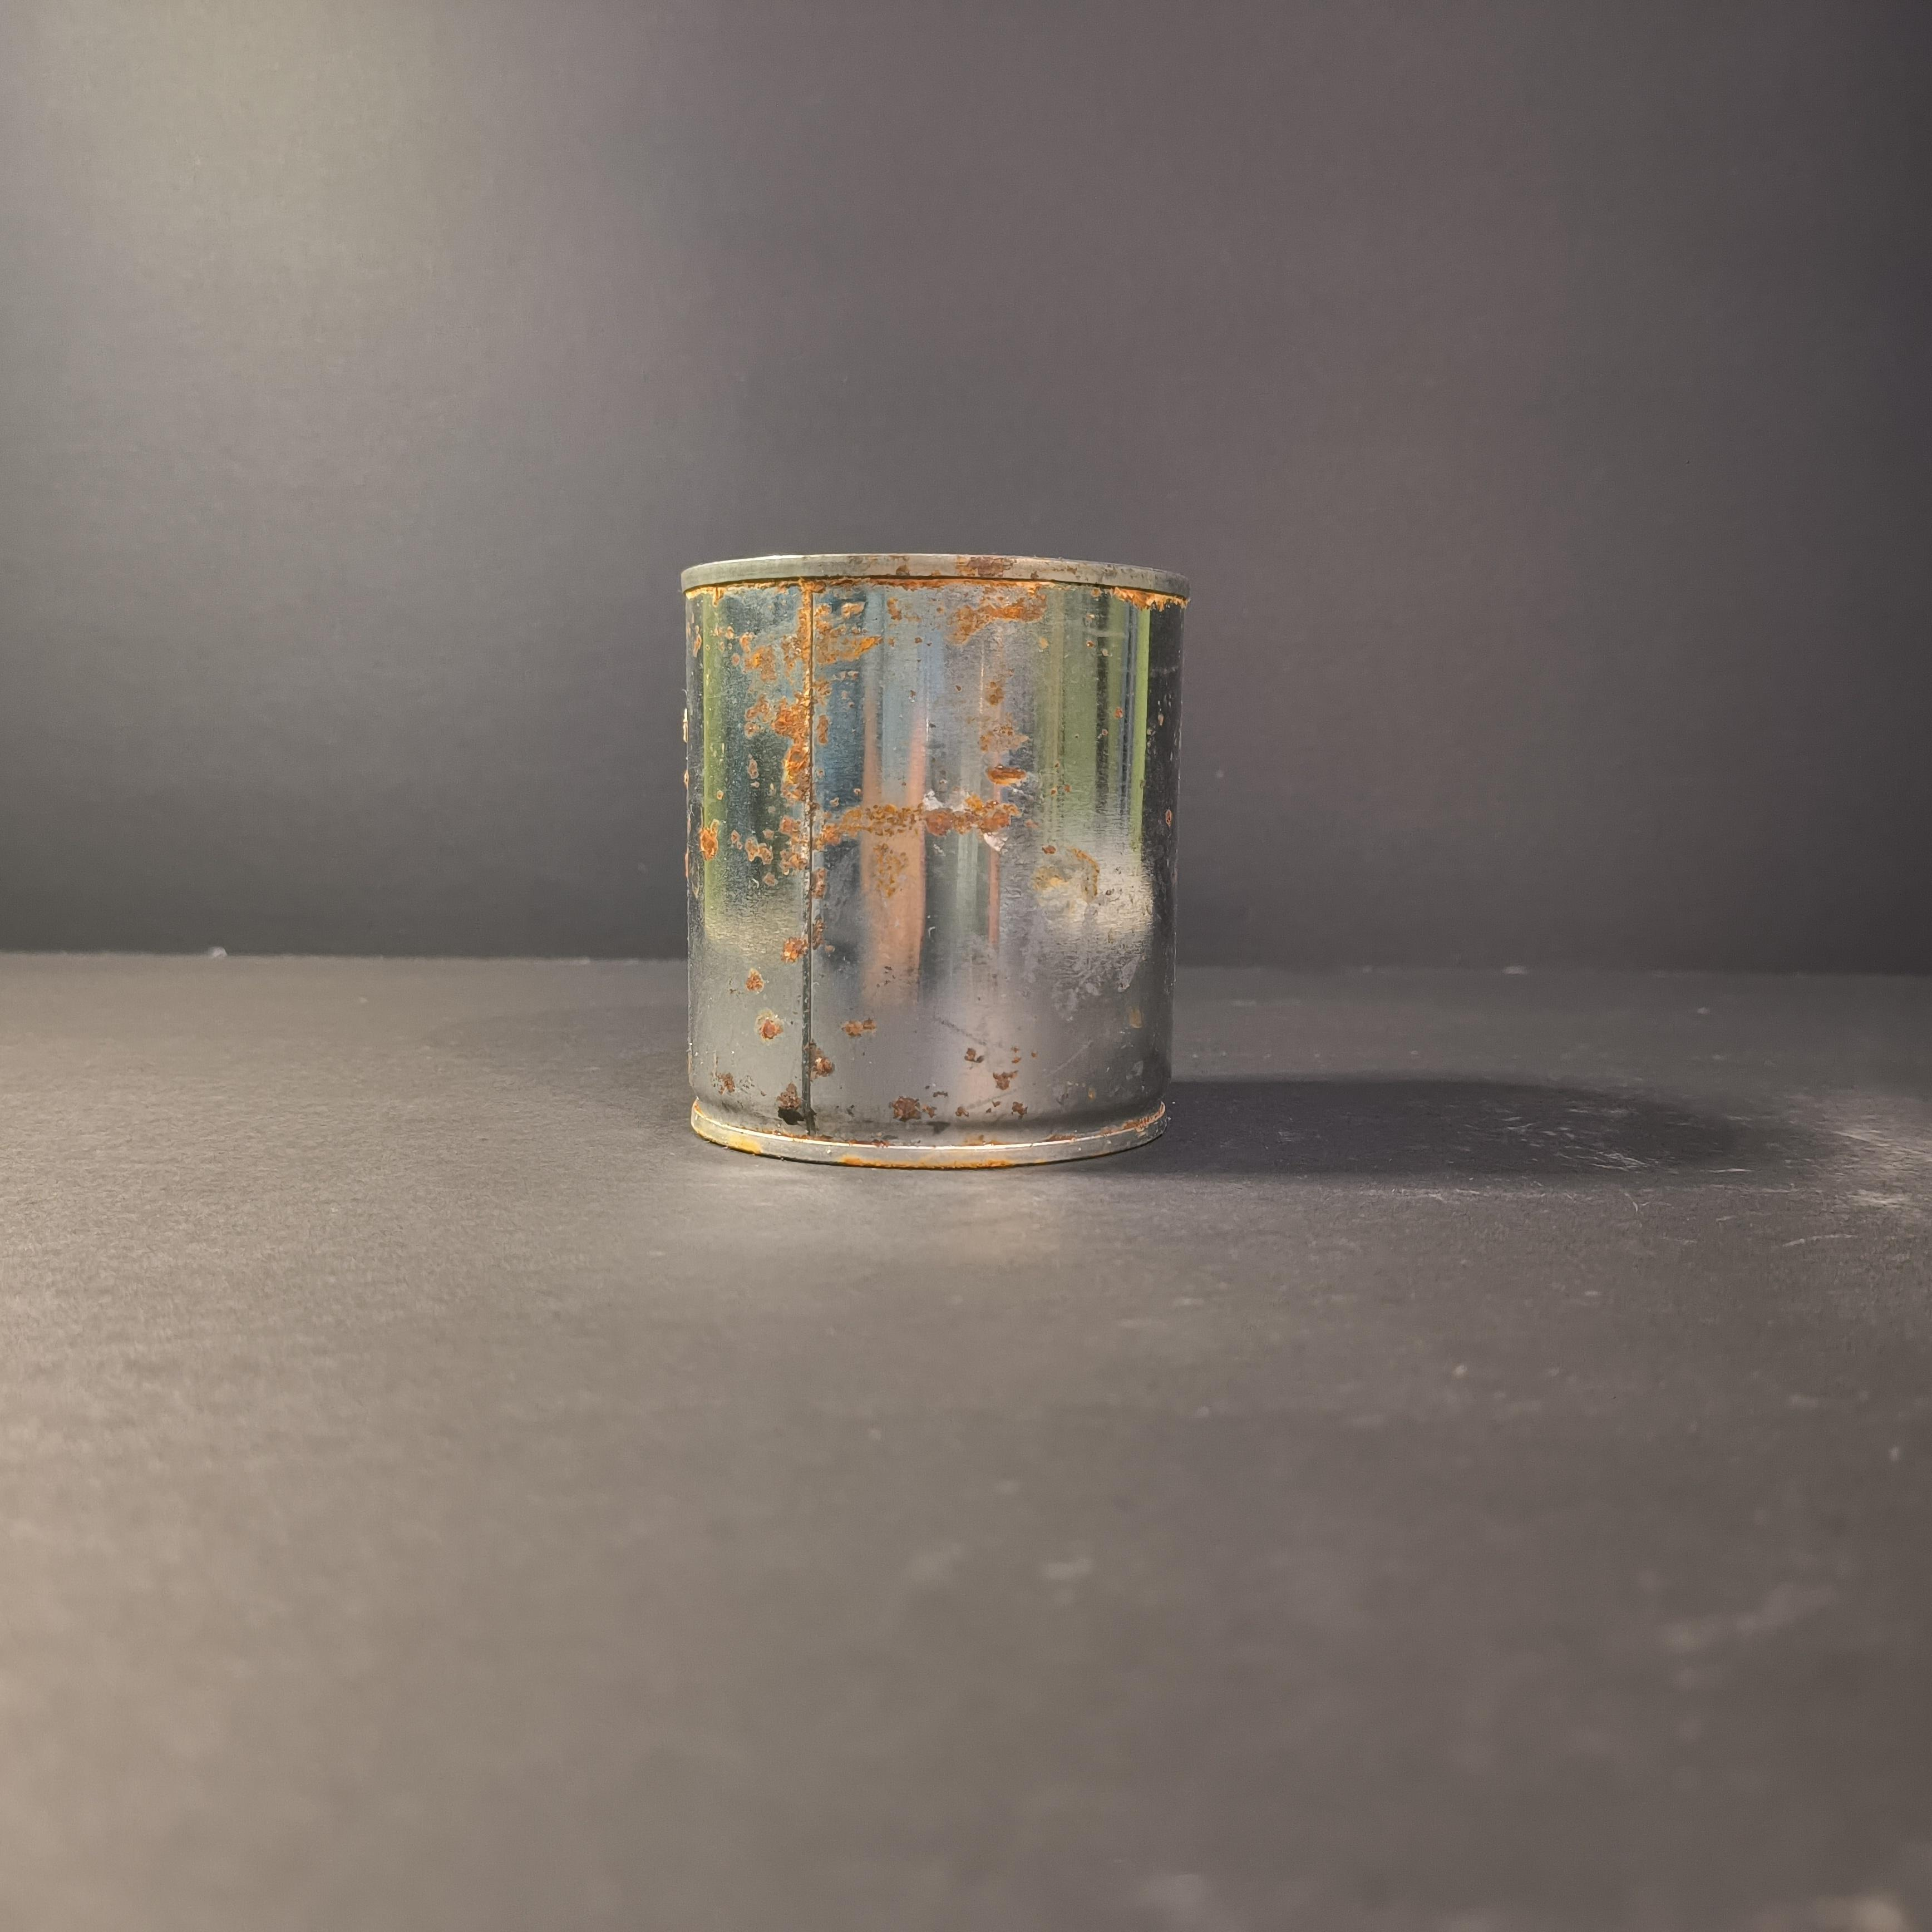Rusted: (674, 524, 1187, 1185)
